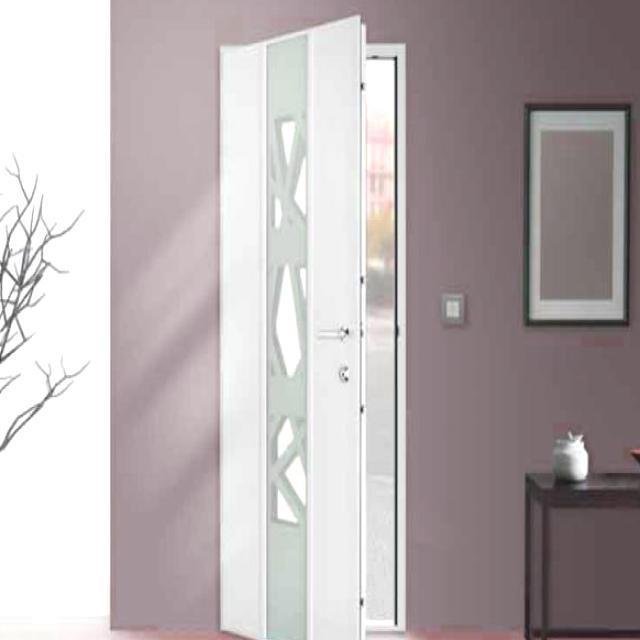door: (211, 13, 376, 639)
